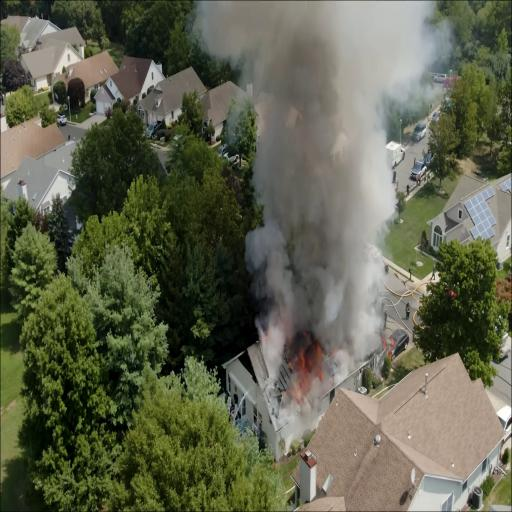smoke: (254, 1, 373, 193), (264, 178, 390, 326), (269, 214, 382, 296)
